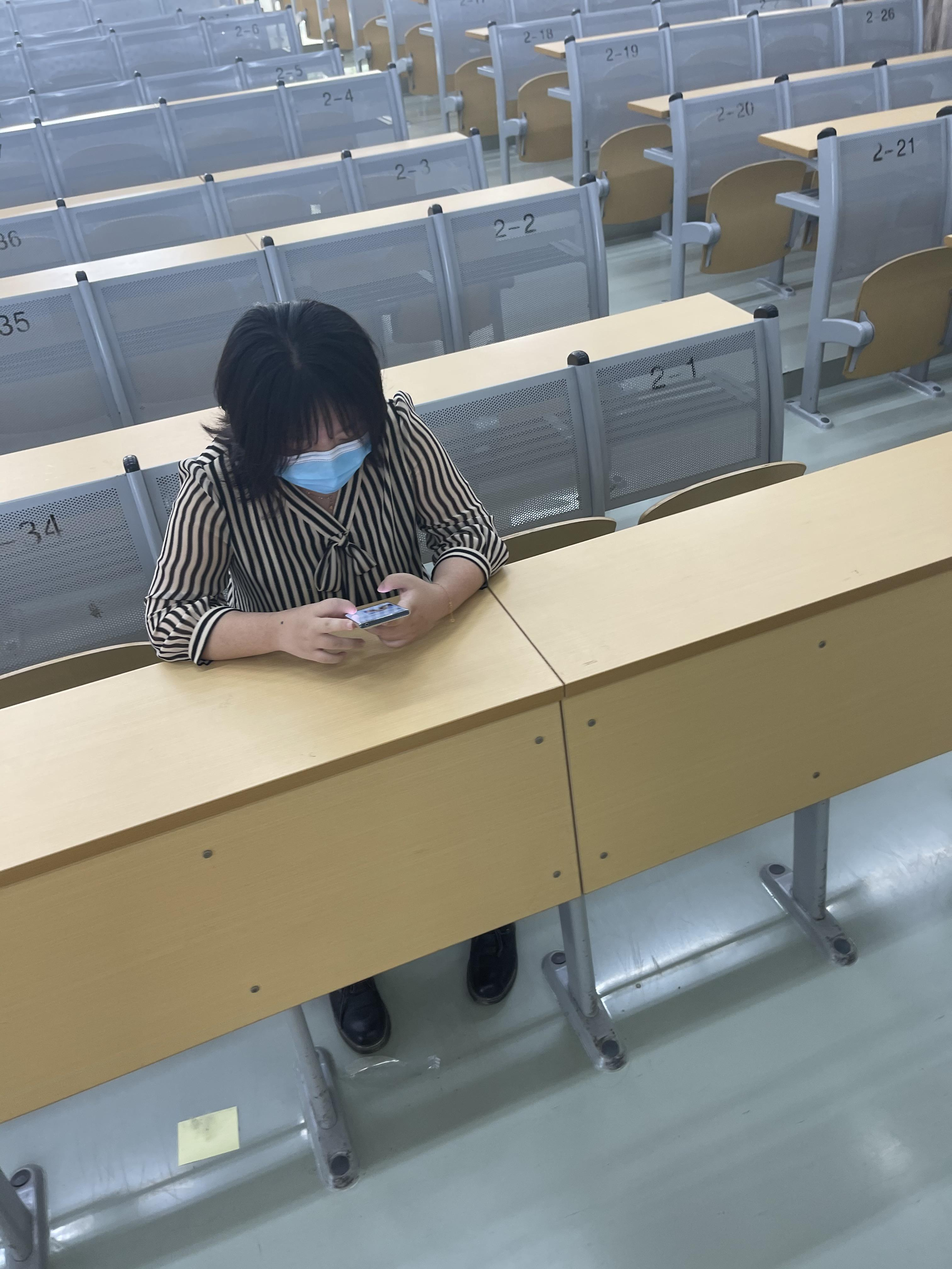phone: (146, 307, 505, 665)
